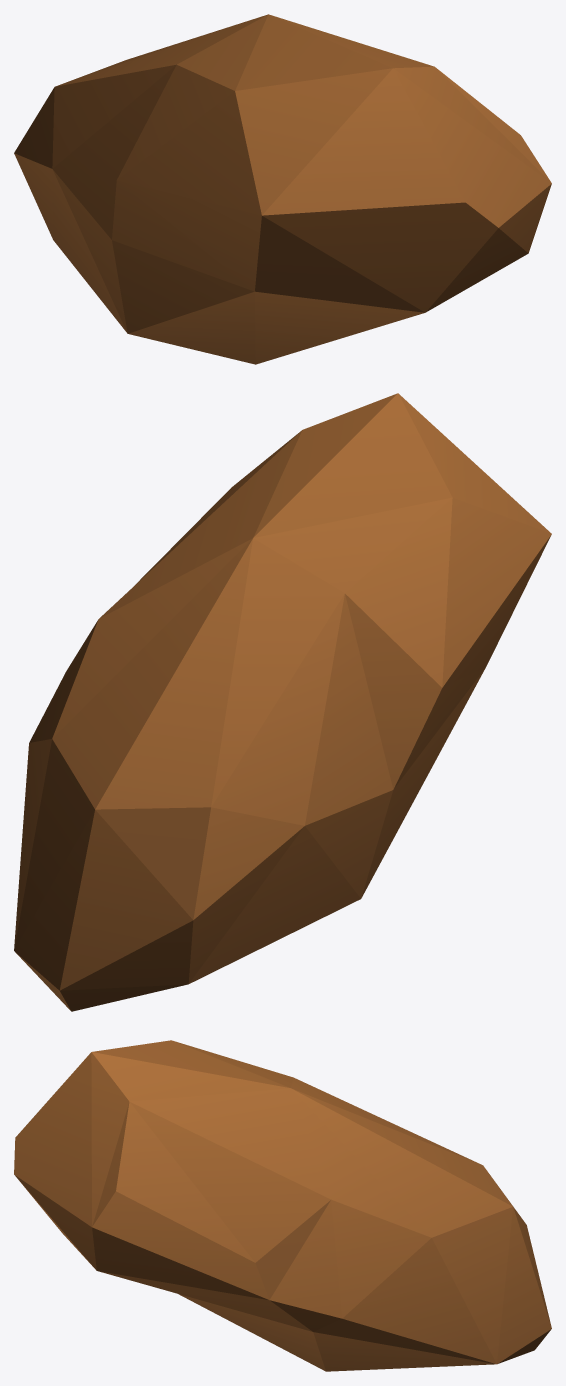
File: Crop_Potato_03.obj
3 views of the same model, one above another, from view 1: azimuth 30°, elevation 25°; view 2: azimuth 150°, elevation 25°; view 3: azimuth 270°, elevation 25° (orthographic). The views are drawn at different scales.
Parts seen in each view (by area): view 1: Crop_Potato_03; view 2: Crop_Potato_03; view 3: Crop_Potato_03.
Part boxes in pixels (box(x1,y1,x2,y2)): Crop_Potato_03: box(14, 14, 551, 364); Crop_Potato_03: box(14, 393, 551, 1011); Crop_Potato_03: box(14, 1040, 551, 1371).
Bounding box in the file's own units: 0.1214 × 0.1333 × 0.2076.
Materials: 1 (1 with a texture image).
